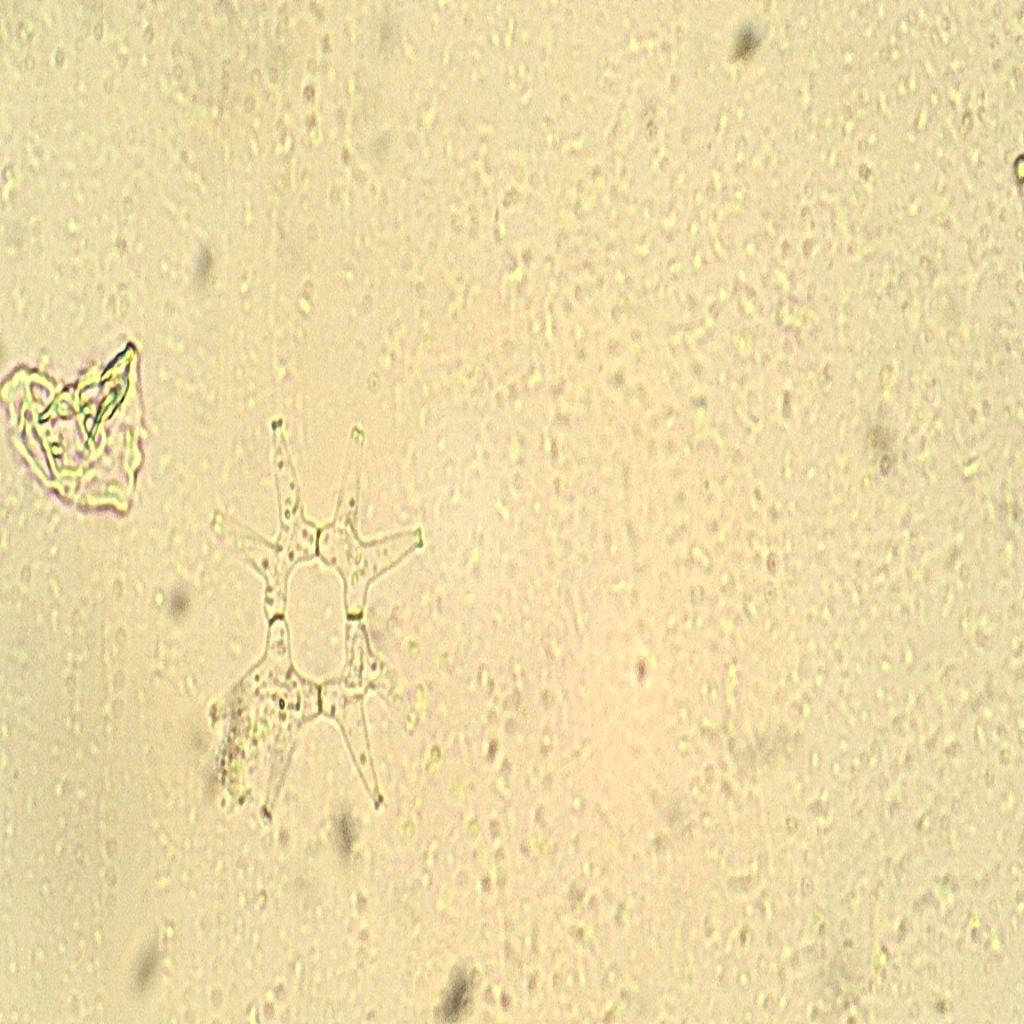Pediastrum_1F0: (186, 401, 444, 851)
